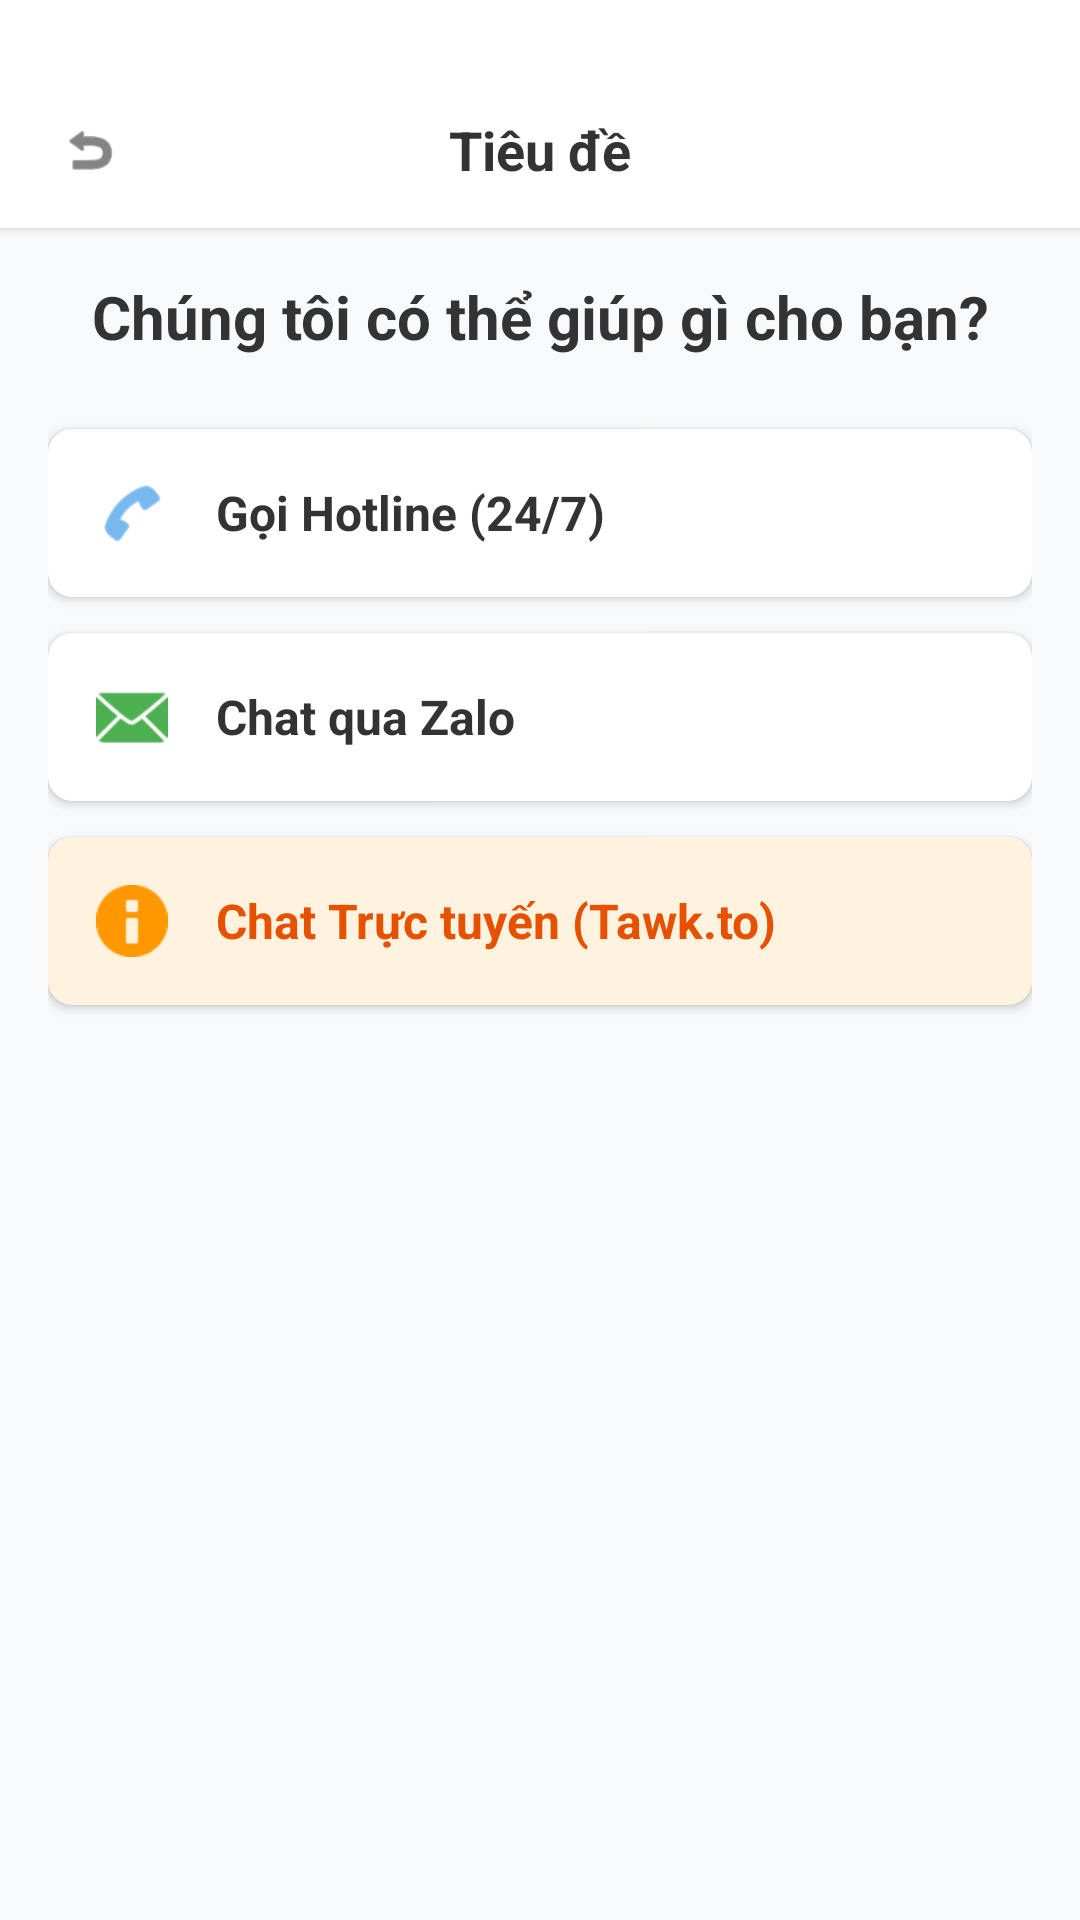

Icon bounding boxes for this 1080px×1920px phone screenshot, format detection(x1, y1, x2, y2):
call: detection(104, 485, 161, 542)
email: detection(96, 692, 168, 743)
info: detection(96, 885, 168, 957)
revert: detection(69, 131, 112, 170)
